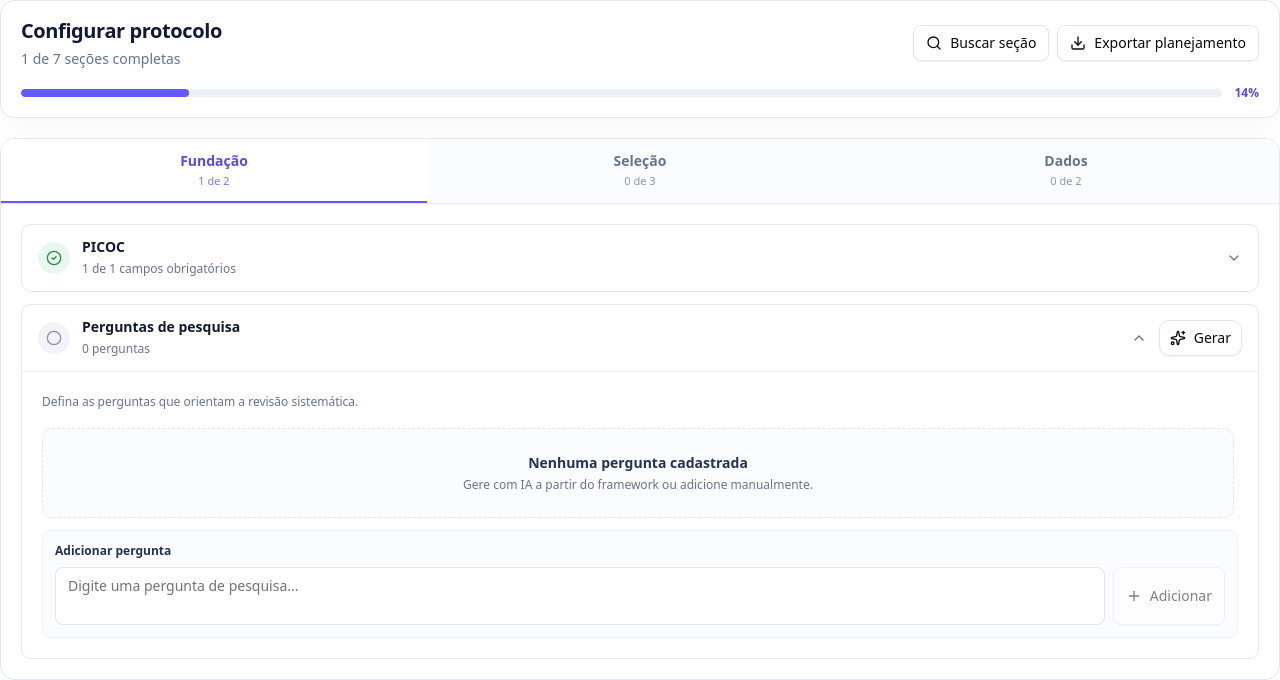
Test: ProjectPlanning › organizes every planning section into compact tabs and independent accordions
The width and height of the screenshot is (1280, 680).
Check: the button "Exportar planejamento" is shown, box [1057,25,1259,61]
Click the tab "Seleção 0 de 3" at [640, 171], box [427,139,853,203]
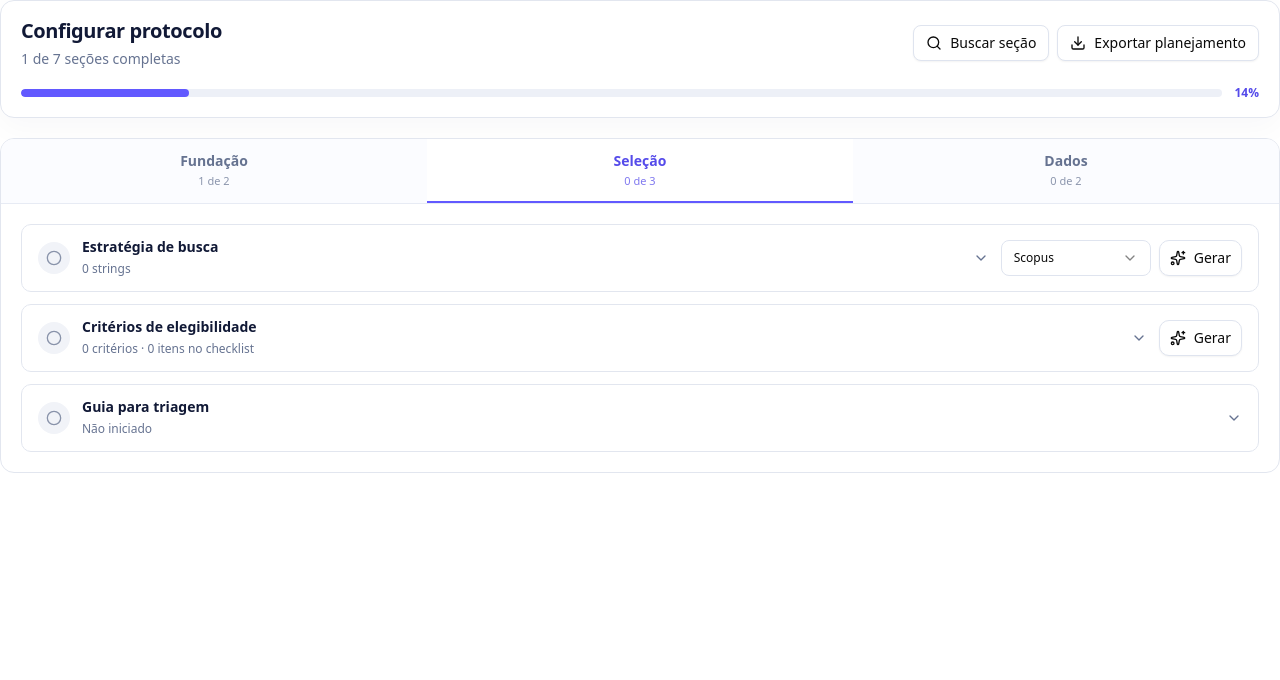
Check: the tab "Seleção 0 de 3" is selected, box [427,139,853,203]
Click the button "Critérios de elegibilidade" at [54, 338], box [38,317,1147,359]
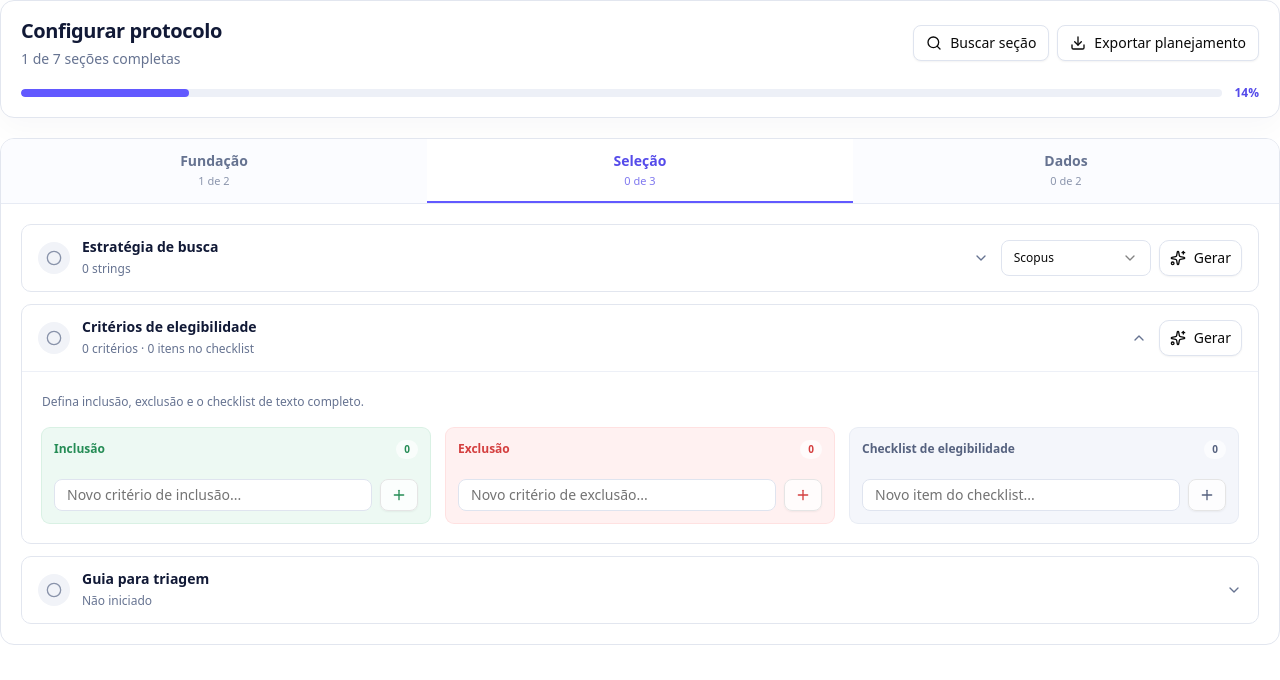
Click the button "Guia para triagem Não iniciado" at [54, 590], box [38,569,1242,611]
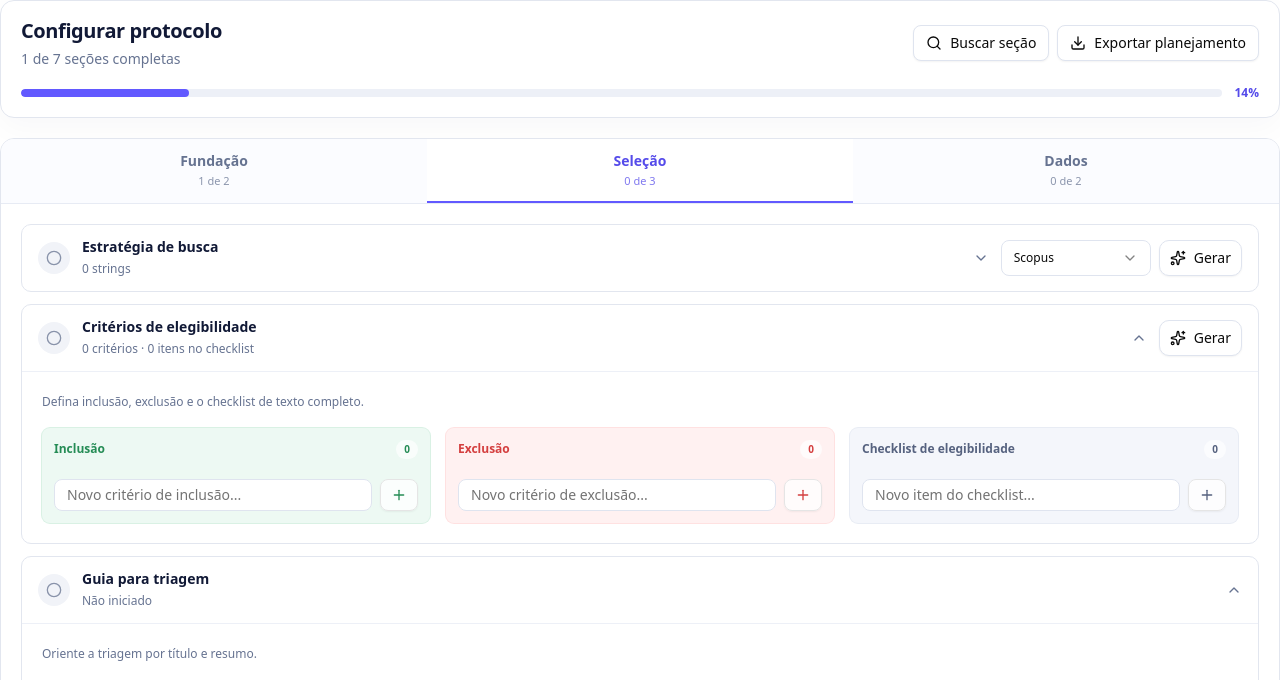
Check: the button "Critérios de elegibilidade" is expanded, box [38,317,1147,359]
Check: the button "Guia para triagem Não iniciado" is expanded, box [38,569,1242,611]
Click the button "Buscar seção" at [981, 43], box [913,25,1049,61]
(page scrolled)
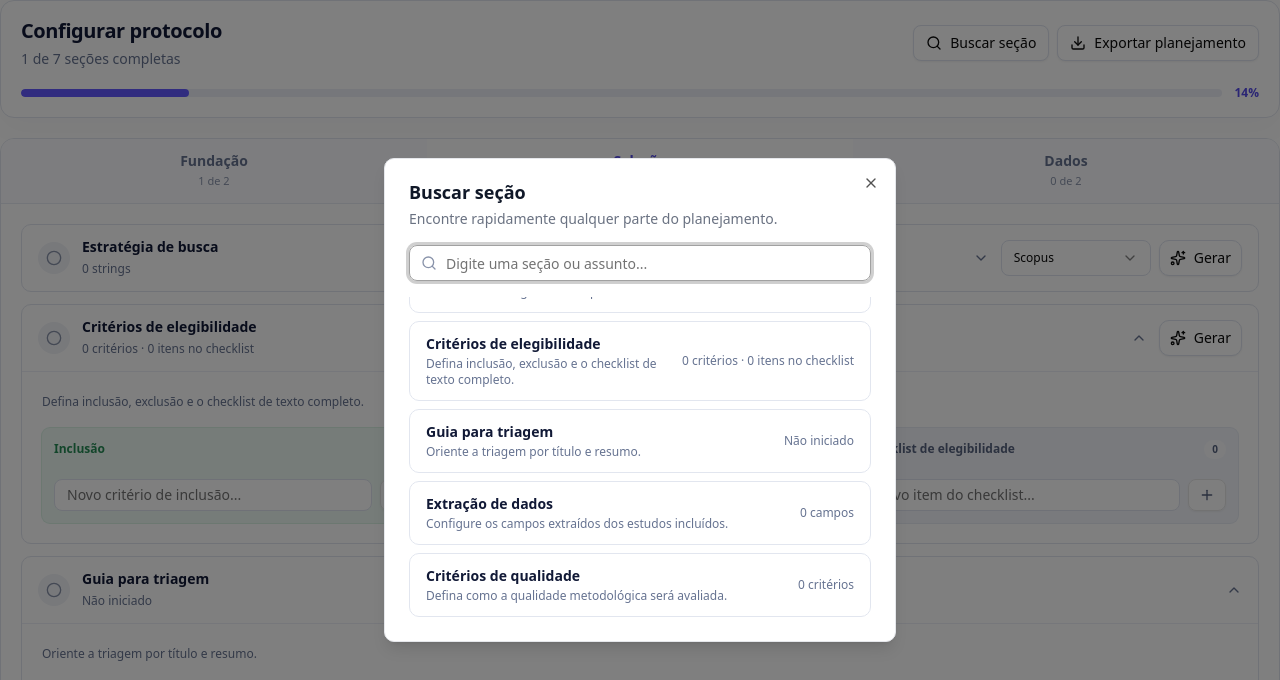
Check: the button "Critérios de elegibilidade" is shown, box [409,321,871,401]
Check: the button "Guia para triagem" is shown, box [409,409,871,473]
Check: the button "Extração de dados" is shown, box [409,481,871,545]
